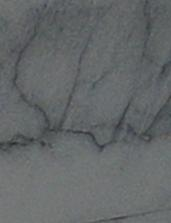fissura: (1, 0, 171, 156)
